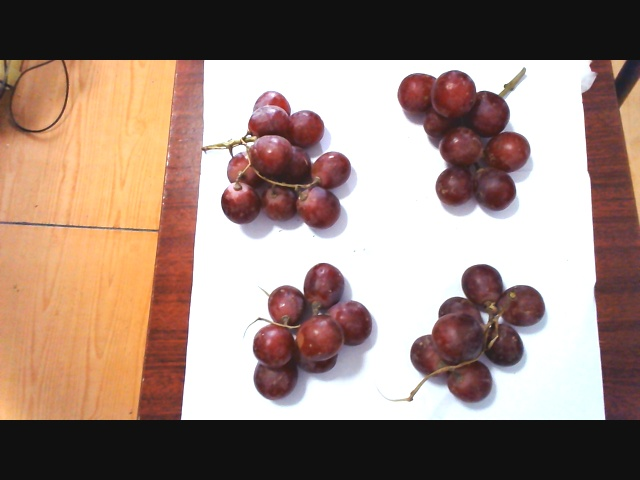grape: (403, 62, 536, 220), (240, 261, 375, 401), (410, 269, 548, 403), (225, 89, 352, 233)
